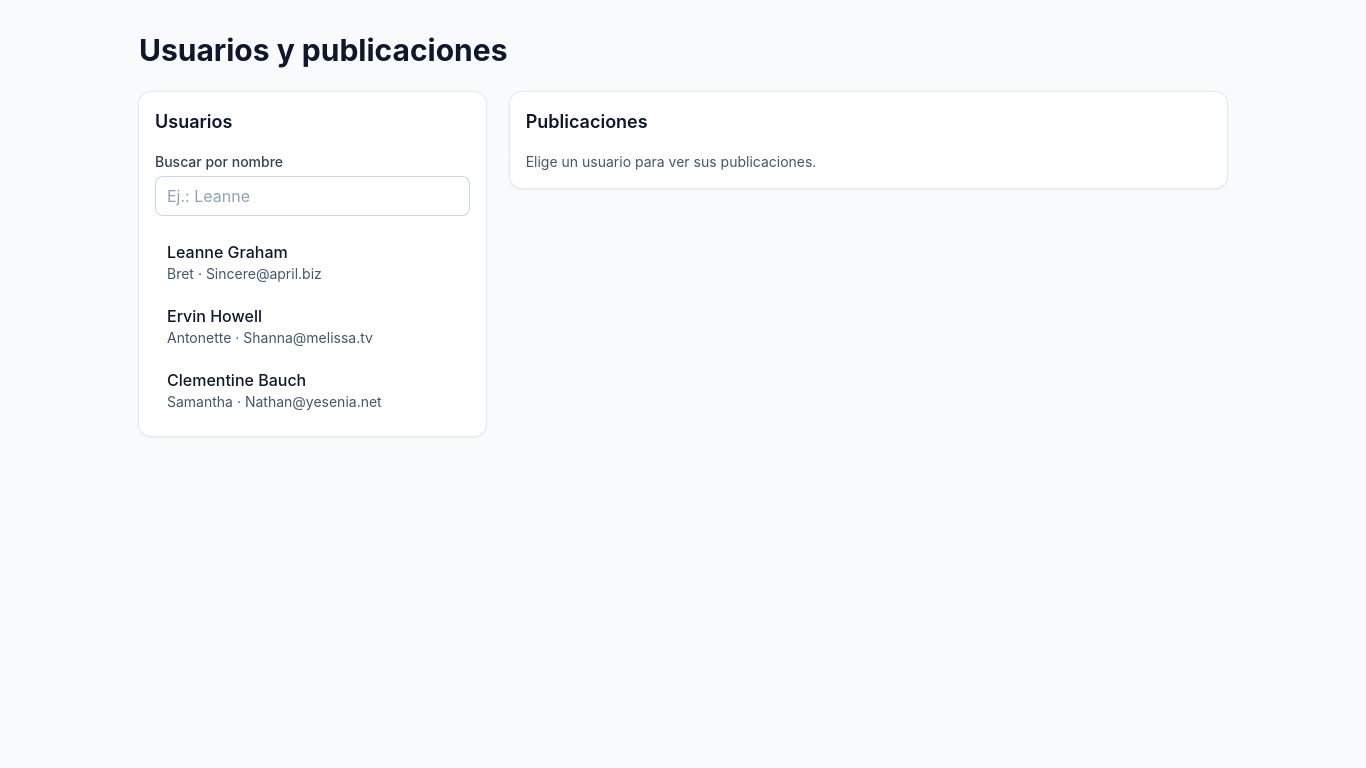
create post › keeps the draft and explains when publishing fails
The width and height of the screenshot is (1366, 768).
Click the button "Leanne Graham Bret · Sincere@april.biz": coordinates (312, 262) [155,232,470,292]
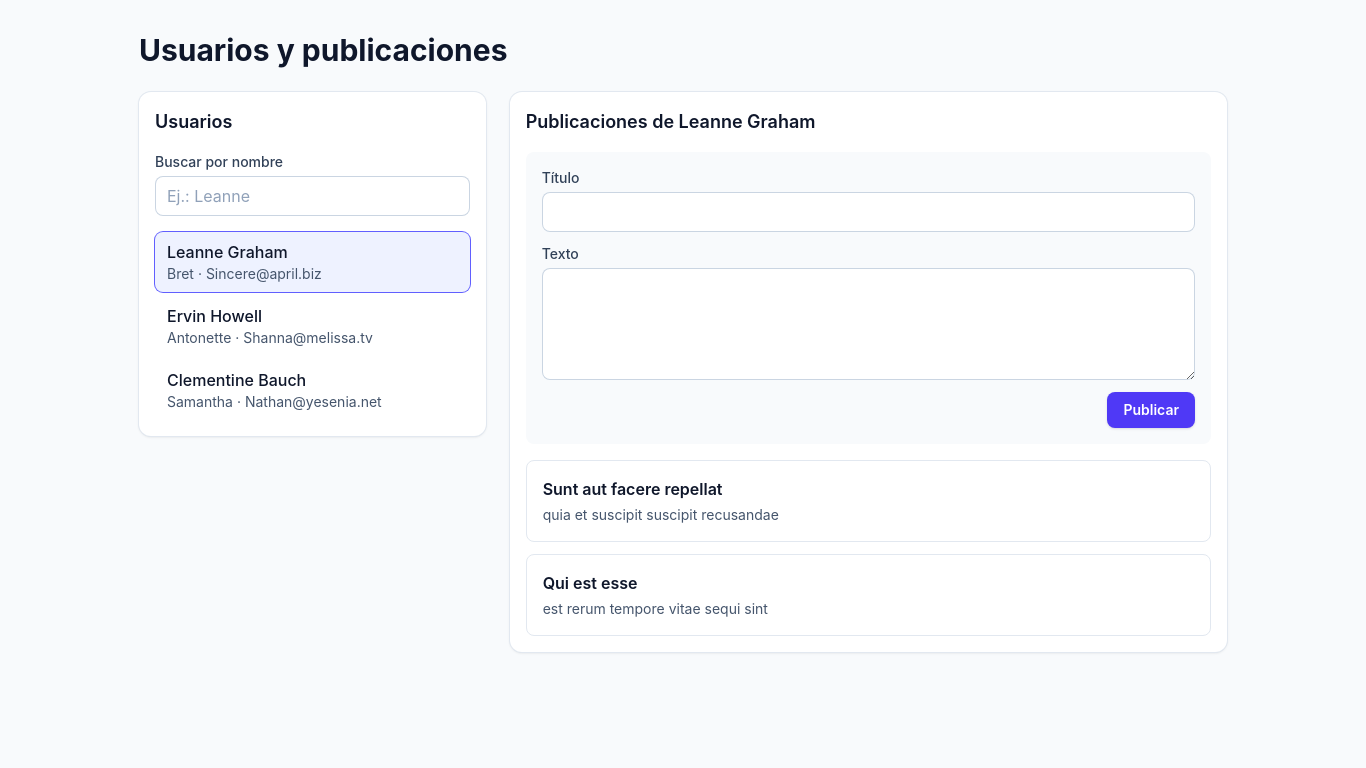
In the field labelled "Título": coordinates (868, 212) [542,192,1195,232], type "Título"
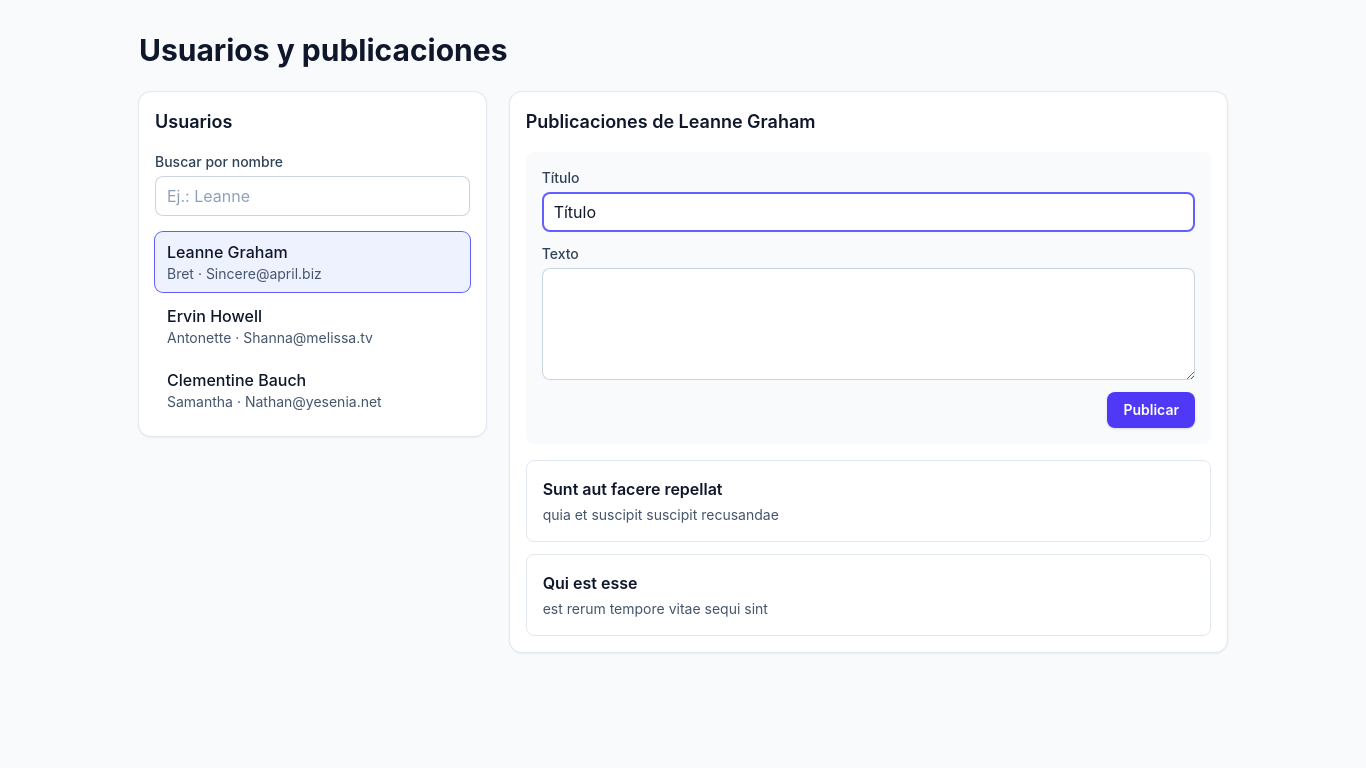
In the text box labelled "Texto": coordinates (868, 324) [542,268,1195,380], type "Texto"
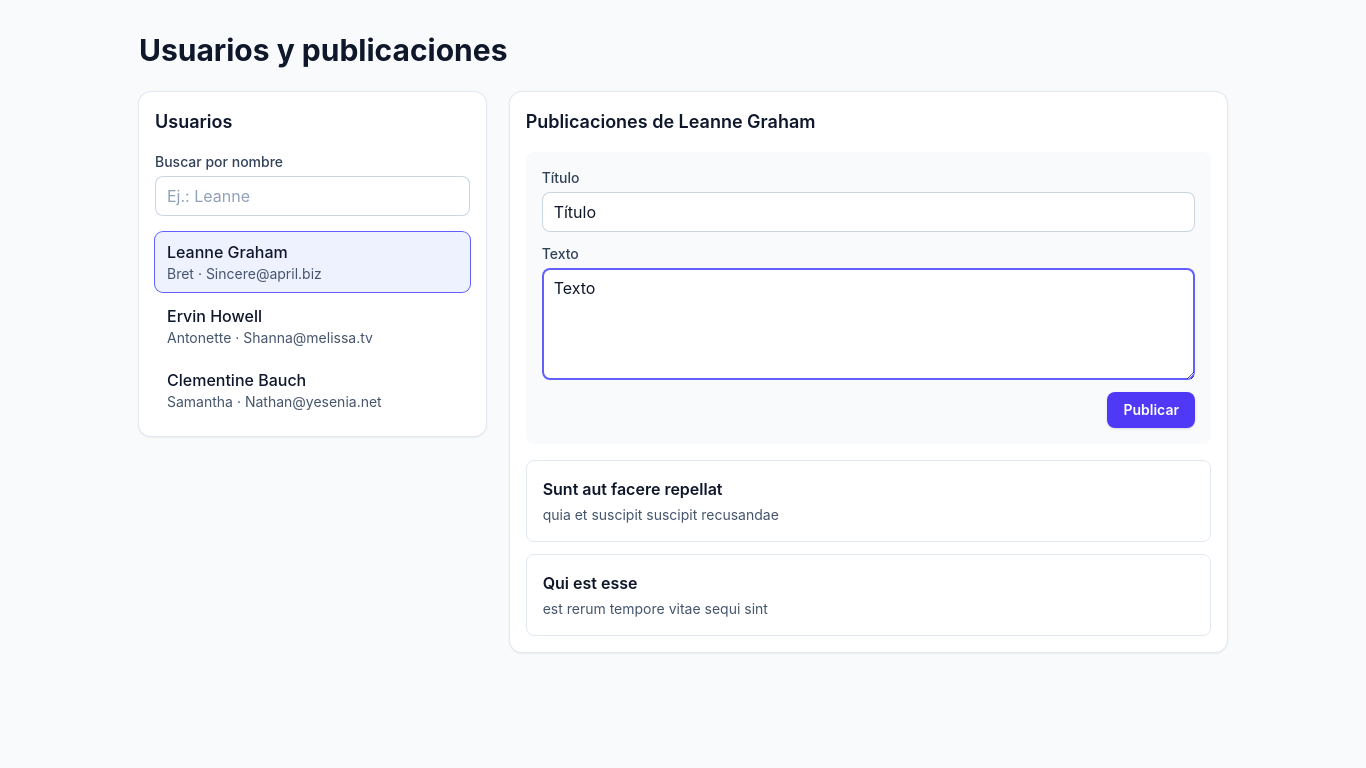
Click the button "Publicar": coordinates (1151, 410) [1107,392,1195,428]
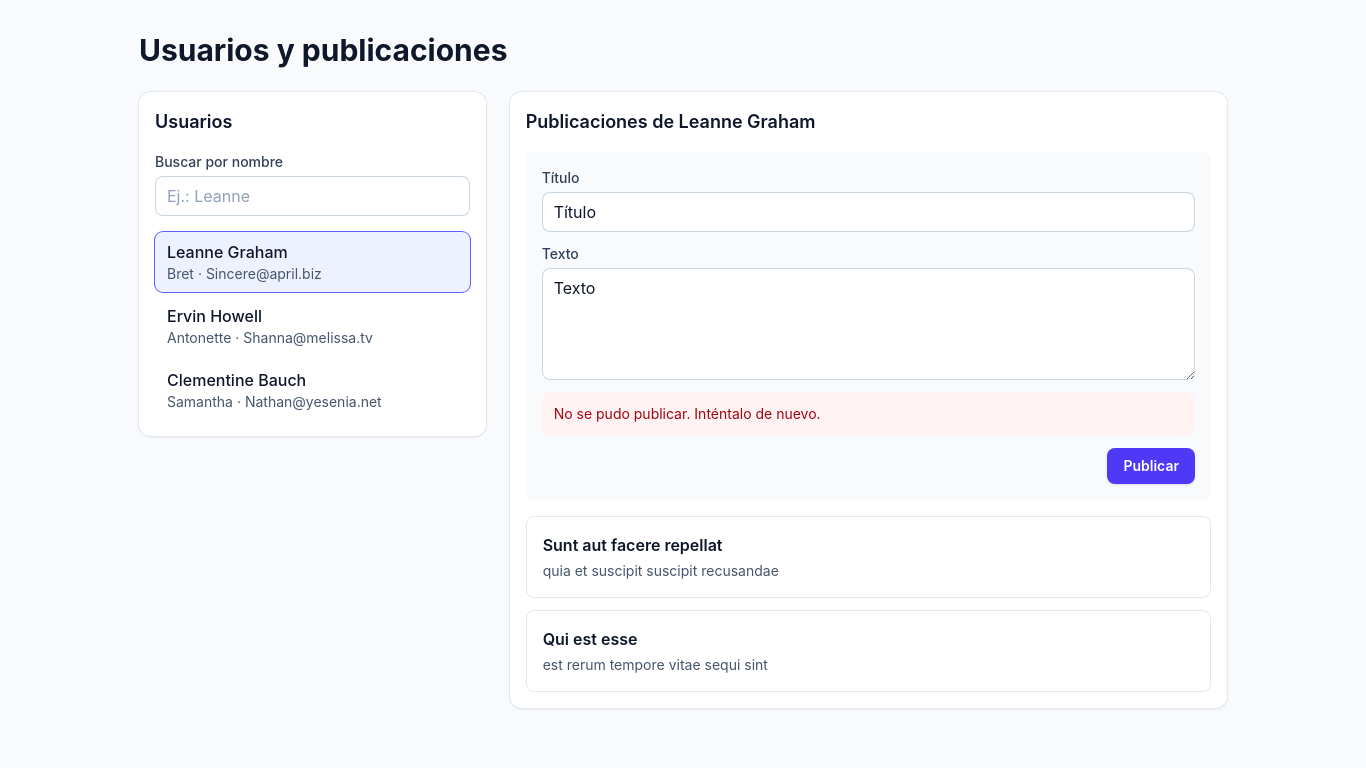
Expected: the message reads "No se pudo publicar. Inténtalo de nuevo.", [554,405,821,422]
